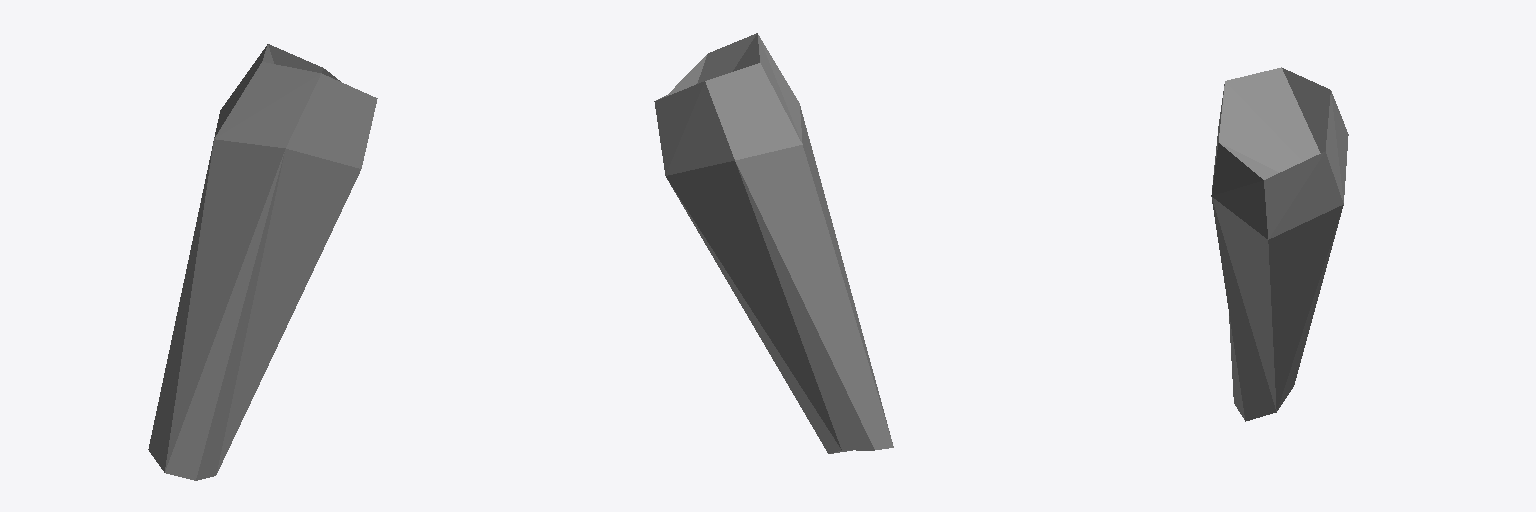
The model's file is BrazoIzq.obj.
3 renders of one model, left to right at view 1: azimuth 30°, elevation 25°; view 2: azimuth 150°, elevation 25°; view 3: azimuth 270°, elevation 25°, orthographic.
Parts seen in each view (by area): view 1: BrazoIzq; view 2: BrazoIzq; view 3: BrazoIzq.
Part boxes in pixels (bbox=[...]): BrazoIzq: bbox=[148, 44, 377, 480]; BrazoIzq: bbox=[654, 33, 893, 453]; BrazoIzq: bbox=[1211, 67, 1348, 421].
Size of the model in its own units: 5 by 8.5 by 2.73.